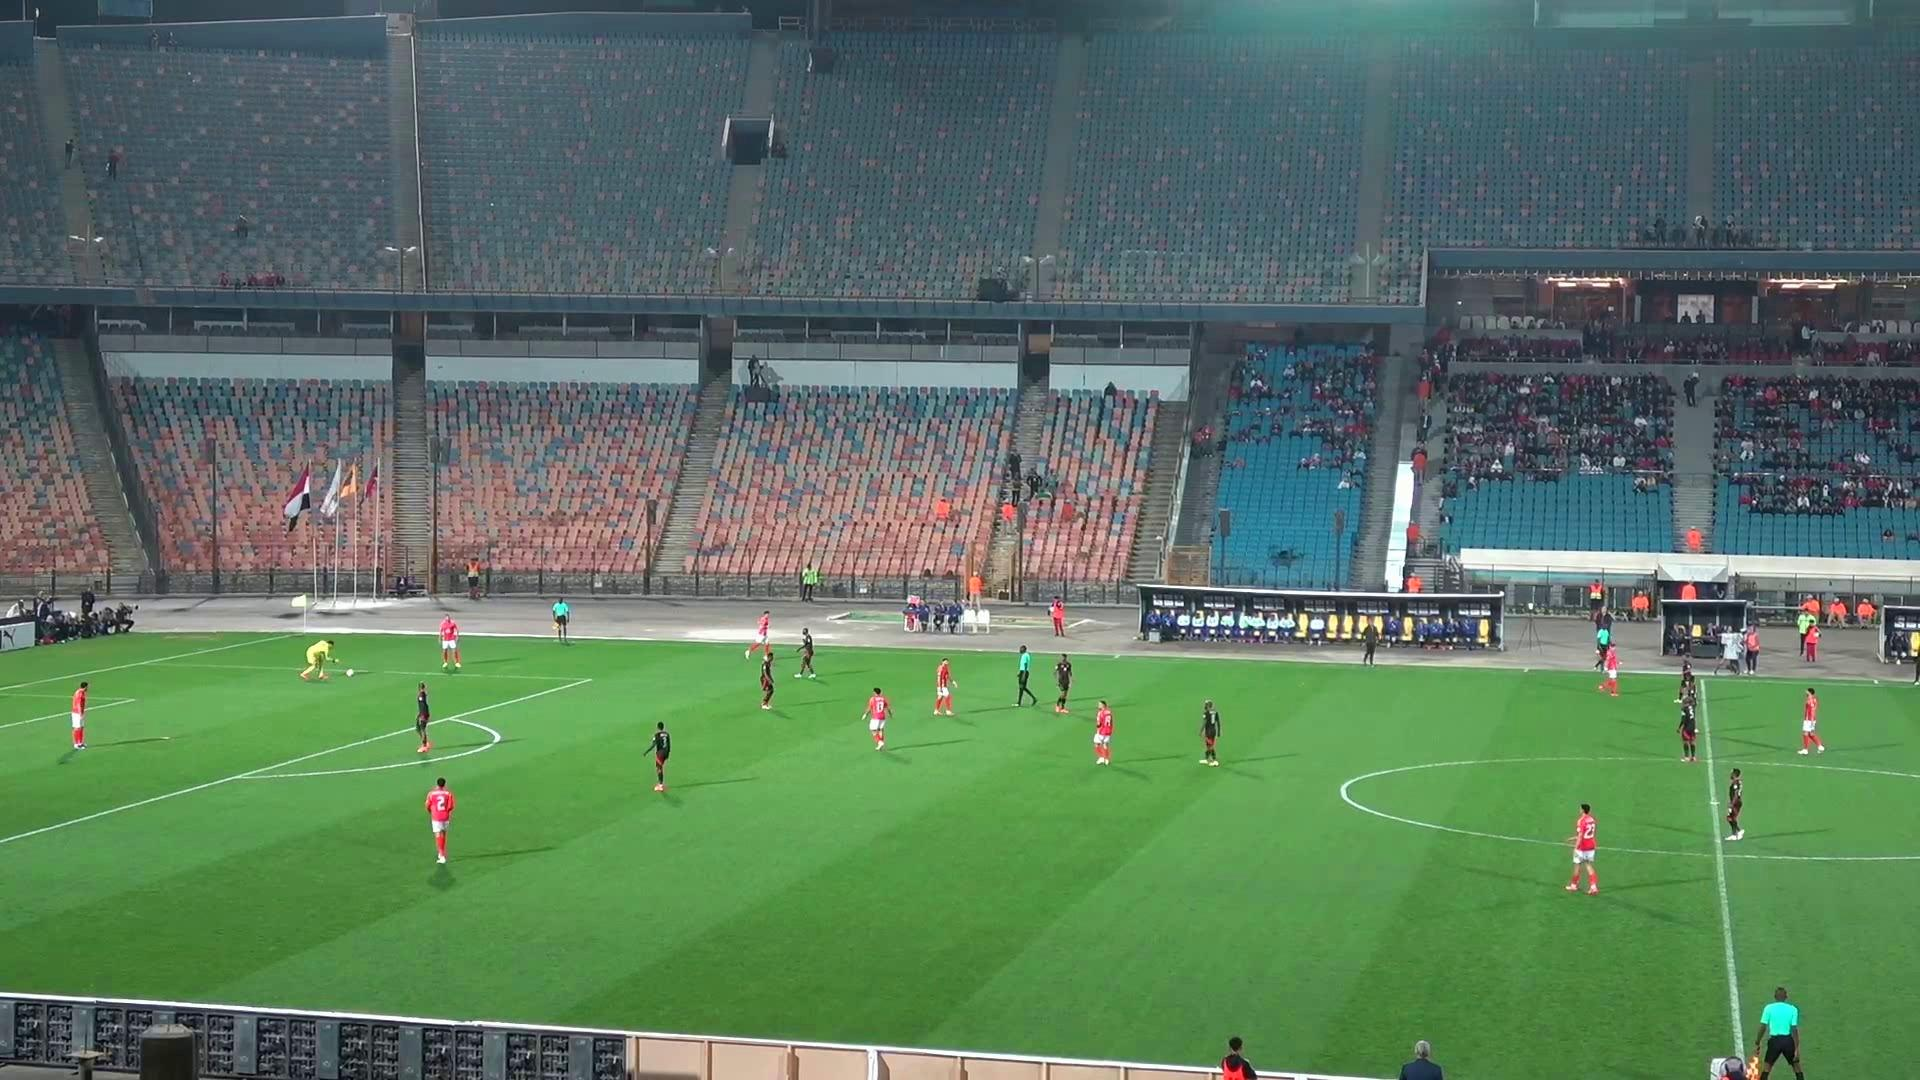Ball: (344, 667, 356, 676)
GK1: (301, 640, 334, 680)
Refree: (1015, 645, 1036, 705), (551, 599, 571, 644)
Team1: (1565, 803, 1598, 895), (425, 777, 455, 864), (1797, 687, 1826, 753), (862, 687, 890, 752), (1596, 641, 1619, 696), (439, 613, 462, 671), (934, 661, 957, 715), (1095, 702, 1114, 765), (71, 682, 88, 752), (746, 611, 770, 658)
Team2: (647, 723, 671, 793), (1676, 688, 1698, 761), (1724, 769, 1745, 840), (1200, 699, 1221, 765), (1676, 646, 1697, 704), (757, 644, 775, 709), (1054, 654, 1073, 713), (415, 682, 431, 753), (796, 626, 814, 678)
